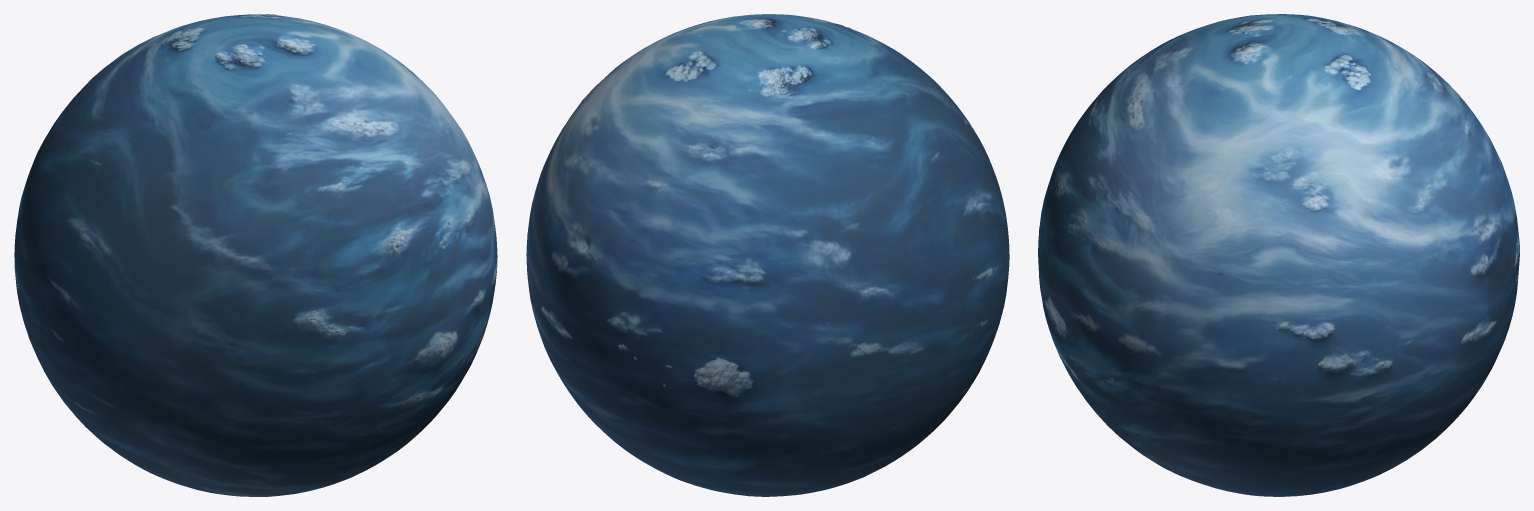
The model's file is water_planet_1.glb.
3 renders of one model, left to right at view 1: azimuth 30°, elevation 25°; view 2: azimuth 150°, elevation 25°; view 3: azimuth 270°, elevation 25°, orthographic.
Visible parts, largest first — view 1: Mesh_0.044; view 2: Mesh_0.044; view 3: Mesh_0.044.
Part boxes in pixels (bbox=[...]): Mesh_0.044: bbox=[14, 14, 497, 496]; Mesh_0.044: bbox=[526, 14, 1009, 496]; Mesh_0.044: bbox=[1038, 14, 1519, 496].
Size of the model in its own units: 2 by 2 by 2.
1 material, 1 textured.
